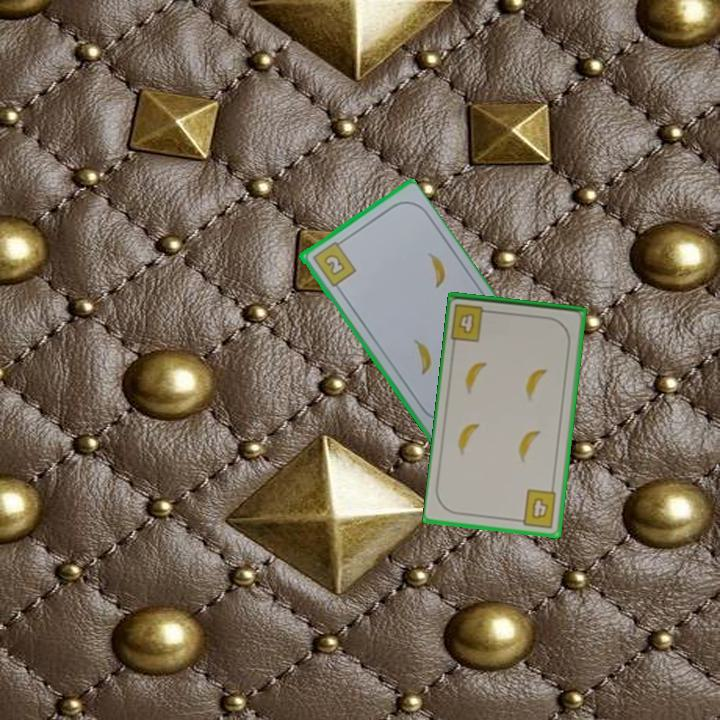2b: (309, 236, 359, 289)
4b: (513, 486, 559, 531), (448, 300, 495, 344)
